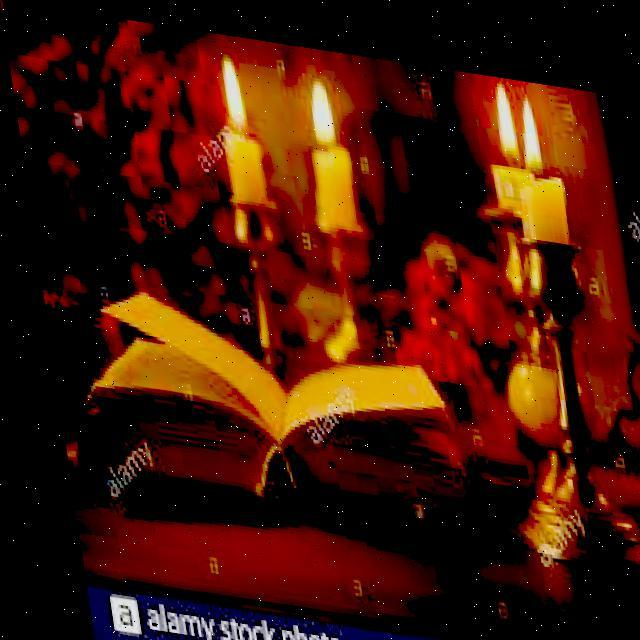Fire: (296, 59, 344, 144), (504, 68, 545, 148), (210, 39, 243, 122)
